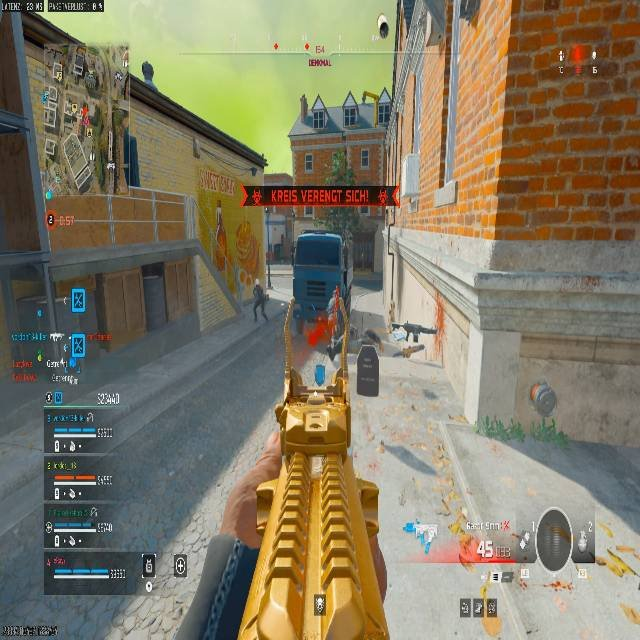head: (254, 280, 261, 288)
player: (251, 282, 268, 322)
